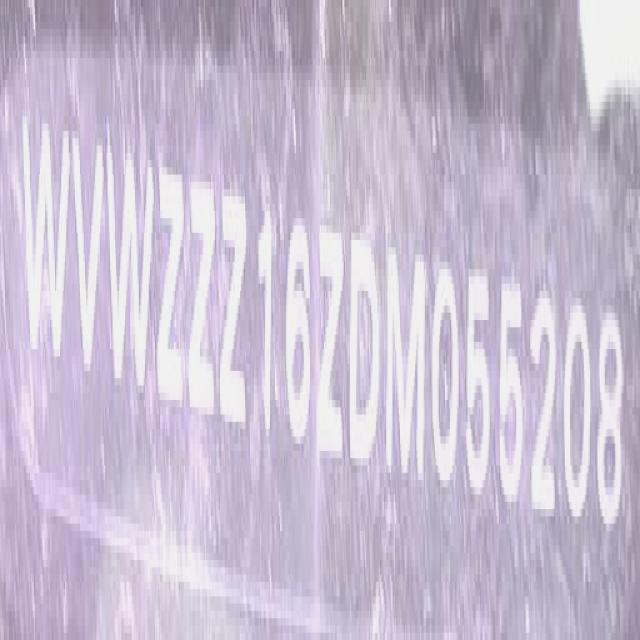0: (432, 251, 460, 490), (565, 300, 593, 526)
1: (256, 207, 274, 442)
2: (530, 287, 558, 521)
5: (466, 263, 494, 501), (500, 270, 527, 509)
6: (287, 206, 313, 454)
8: (599, 308, 626, 532)
D: (348, 224, 379, 468)
M: (388, 238, 429, 482)
V: (74, 124, 104, 385)
W: (106, 132, 154, 404), (23, 102, 71, 364)
Z: (191, 167, 217, 428), (160, 164, 186, 411), (318, 224, 344, 468), (221, 185, 246, 438)
